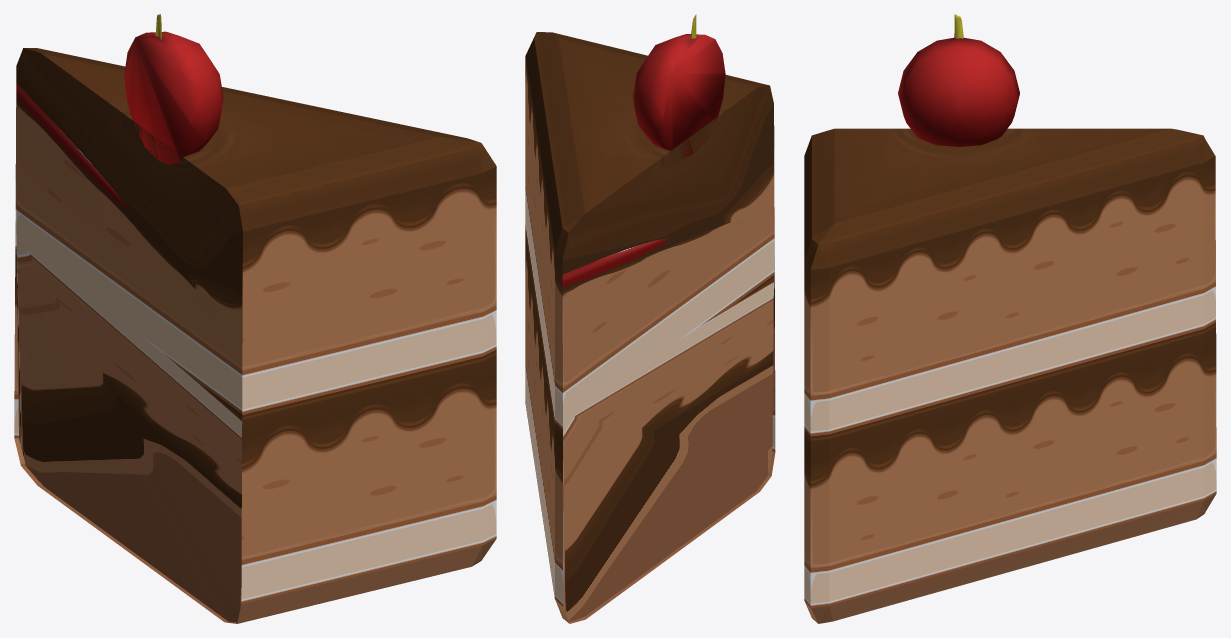
Rendered from cake02.fbx.
3 views of the same model, side by side, from view 1: azimuth 30°, elevation 25°; view 2: azimuth 150°, elevation 25°; view 3: azimuth 270°, elevation 25° (orthographic). The views are drawn at different scales.
Visible parts, largest first — view 1: Cake.002; view 2: Cake.002; view 3: Cake.002.
Boxes of the visible parts, box(x1,y1,x2,y2) form: Cake.002: box(14, 14, 496, 623); Cake.002: box(525, 14, 775, 623); Cake.002: box(804, 14, 1216, 623).
Bounding box in the file's own units: 10.58 × 21.83 × 16.07.
